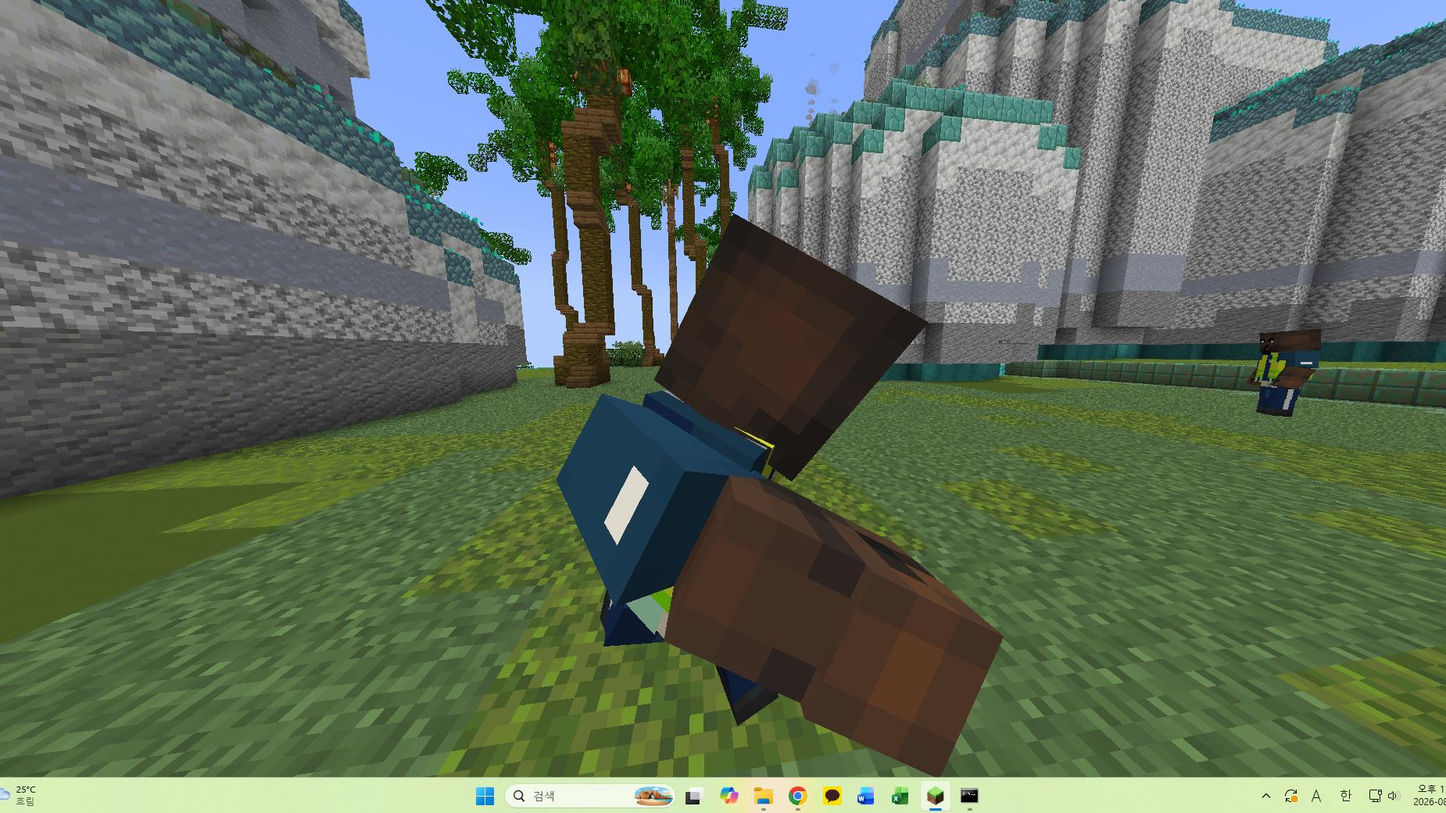Guardian: (558, 220, 1000, 775), (1250, 329, 1320, 417)
